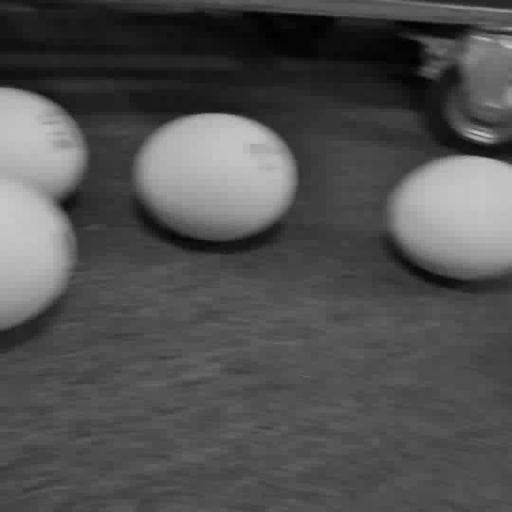fuel: (135, 114, 297, 241), (387, 156, 511, 281), (0, 176, 75, 331), (0, 87, 87, 201)
